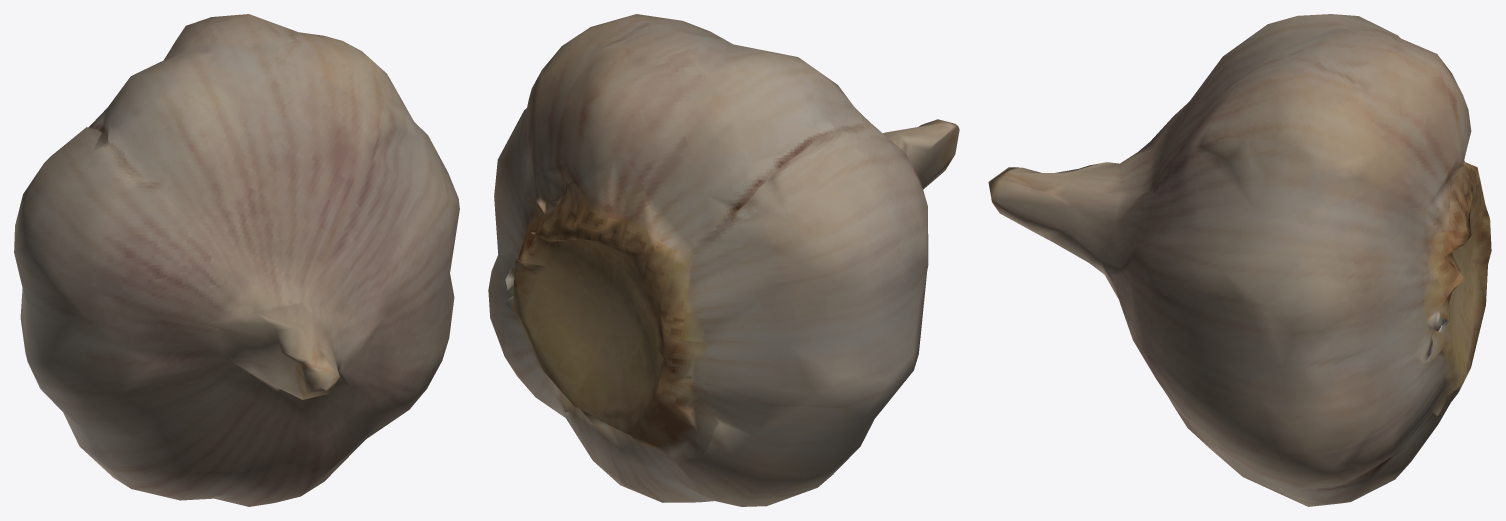
File: ref_cs_garlic.glb
3 views of the same model, side by side, from view 1: azimuth 30°, elevation 25°; view 2: azimuth 150°, elevation 25°; view 3: azimuth 270°, elevation 25° (orthographic). The views are drawn at different scales.
Visible parts, largest first — view 1: ref_cs_garlic; view 2: ref_cs_garlic; view 3: ref_cs_garlic.
Part boxes in pixels (x1,y1,x2,y2): ref_cs_garlic: (14, 14, 459, 506); ref_cs_garlic: (488, 14, 959, 506); ref_cs_garlic: (988, 14, 1491, 506).
Bounding box in the file's own units: 0.9332 × 0.9987 × 1.
Materials: 1 (1 with a texture image).
